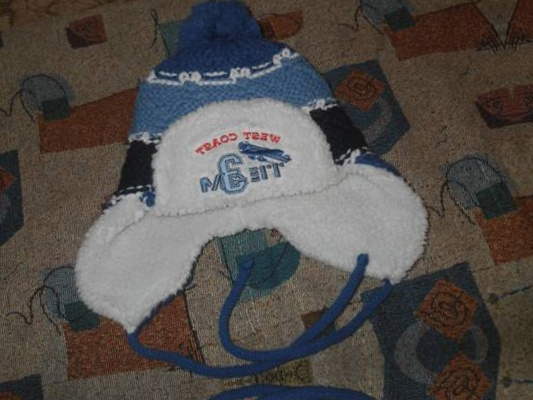Hat: (10, 0, 458, 366), (78, 390, 526, 400)
